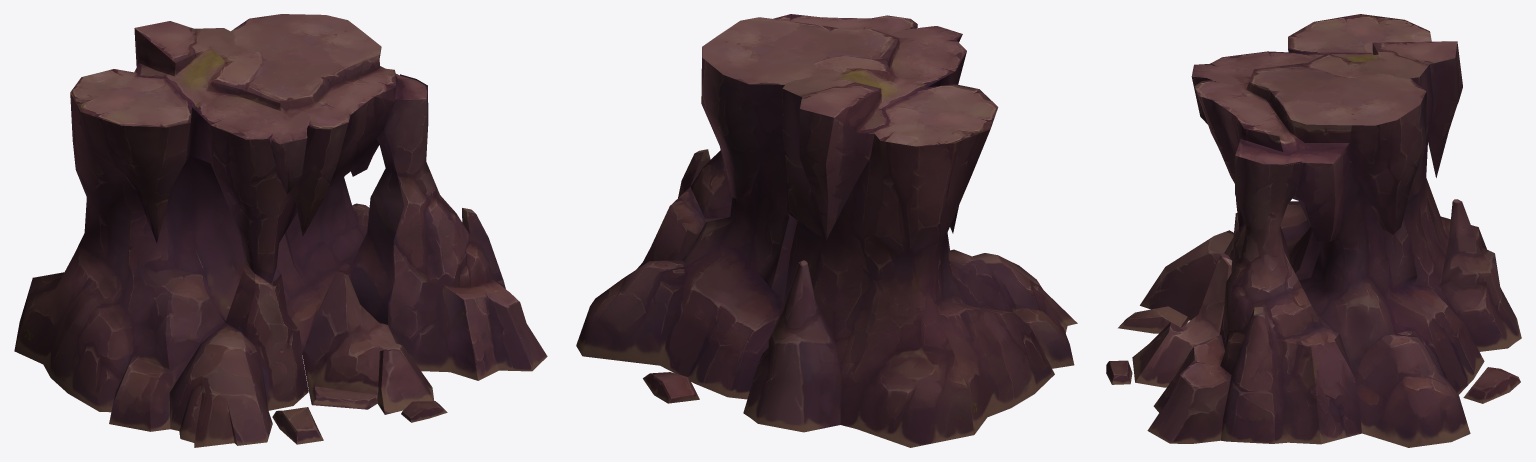
Rendered from xbw_shiqiang_01.FBX.
The picture shows the model from 3 angles, left to right: view 1: azimuth 30°, elevation 25°; view 2: azimuth 150°, elevation 25°; view 3: azimuth 270°, elevation 25°; orthographic projection. The views are drawn at different scales.
Visible parts, largest first — view 1: xbw_shiqiang_01; view 2: xbw_shiqiang_01; view 3: xbw_shiqiang_01.
Part boxes in pixels (x1=…): xbw_shiqiang_01: x1=14, y1=14, x2=547, y2=447; xbw_shiqiang_01: x1=576, y1=14, x2=1077, y2=447; xbw_shiqiang_01: x1=1106, y1=14, x2=1521, y2=447.
Bounding box in the file's own units: 12.13 × 8.26 × 11.05.
